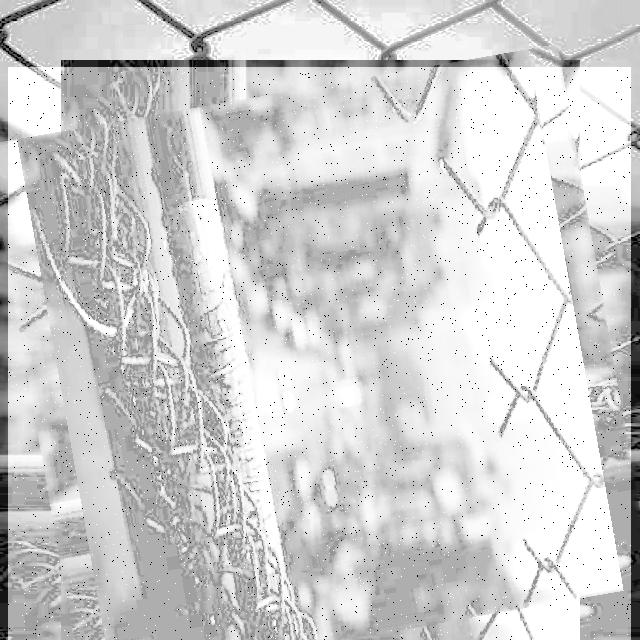anomaly-fence: (8, 67, 631, 640)
